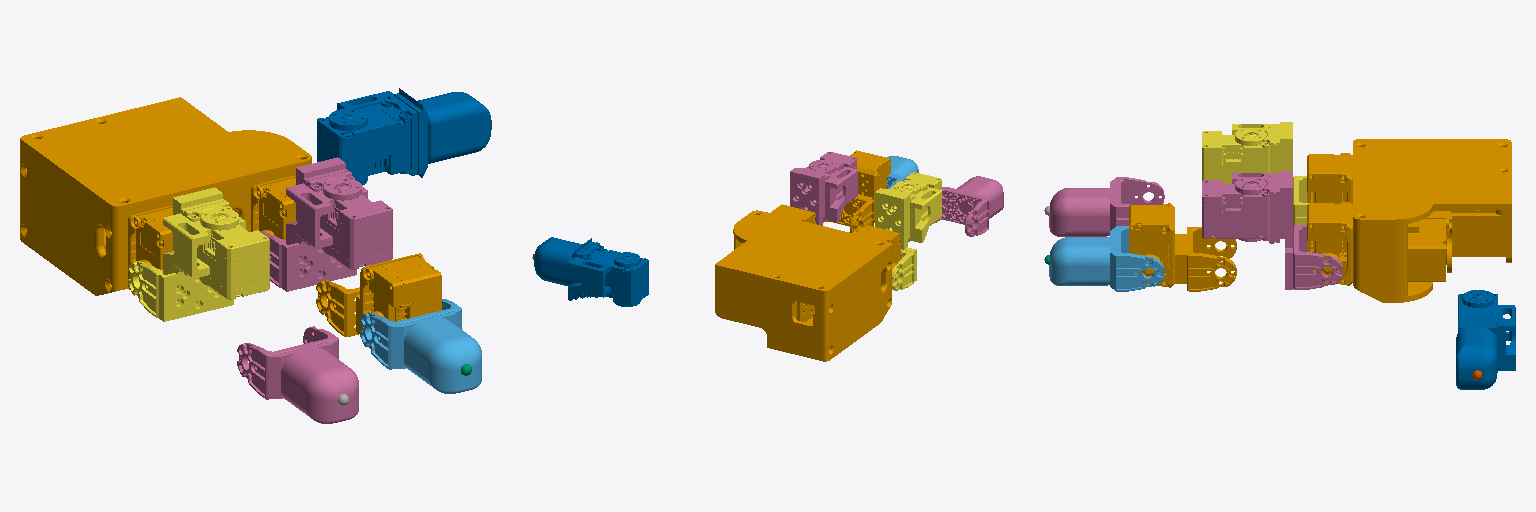
The robot description file, URDF, robot "for_urdf_right":
<?xml version='1.0' encoding='utf-8'?>
<robot name="for_urdf_right">
    <link name="palm">
        <inertial>
            <origin xyz="0.04408264816935304 0.021387857928123092 0.02271811661182397" rpy="0.0 0.0 0.0" />
            <mass value="1.0369816733358068" />
            <inertia ixx="0.001104979313364122" iyy="0.001031773846424572" izz="0.001706516554357987" ixy="0.00017199324393286355" iyz="9.120440866143228e-06" ixz="6.229329238586004e-06" />
        </inertial>
        <visual name="palm_visual">
            <origin xyz="0.0 0.0 0.0" rpy="0.0 0.0 0.0" />
            <geometry>
                <mesh filename="meshes/palm.stl" scale="0.001 0.001 0.001" />
            </geometry>
        </visual>
        <collision name="palm_collision">
            <origin xyz="0.0 0.0 0.0" rpy="0.0 0.0 0.0" />
            <geometry>
                <mesh filename="meshes/palm.stl" scale="0.001 0.001 0.001" />
            </geometry>
        </collision>
    </link>
    <link name="thumb_mcp1">
        <inertial>
            <origin xyz="0.000225007094667804 0.007015717072435812 -0.011848763937220338" rpy="0.0 -0.0 0.0" />
            <mass value="0.1368678994313018" />
            <inertia ixx="1.850335790135125e-05" iyy="1.2815907211302397e-05" izz="2.058441966236598e-05" ixy="-5.5542418332796e-08" iyz="-7.976482882837731e-08" ixz="3.266596126911686e-08" />
        </inertial>
        <visual name="thumb_mcp1_visual">
            <origin xyz="0.00030000000000002914 0.005356636907728405 0.0007840340104174449" rpy="-3.141592653589793 -1.5707963267948852 0" />
            <geometry>
                <mesh filename="meshes/thumb_mcp1.stl" scale="0.001 0.001 0.001" />
            </geometry>
        </visual>
        <collision name="thumb_mcp1_collision">
            <origin xyz="0.00030000000000002914 0.005356636907728405 0.0007840340104174449" rpy="-3.141592653589793 -1.5707963267948852 0" />
            <geometry>
                <mesh filename="meshes/thumb_mcp1.stl" scale="0.001 0.001 0.001" />
            </geometry>
        </collision>
    </link>
    <link name="thumb_mcp2">
        <inertial>
            <origin xyz="0.00692127206609797 2.4270045351215687e-09 -6.682093434129399e-10" rpy="0.0 -0.0 -1.4039453210987902e-47" />
            <mass value="0.01935609811919093" />
            <inertia ixx="4.069121186171332e-06" iyy="4.392023484606764e-06" izz="1.6616430847017248e-06" ixy="1.950074623264728e-13" iyz="6.552321163512805e-14" ixz="-5.88494638011025e-14" />
        </inertial>
        <visual name="thumb_mcp2_visual">
            <origin xyz="0.015852648956663985 -0.011961920770611405 -2.531308496145357e-16" rpy="-3.1415926535897922 -1.0795345042441354e-15 -1.5707963267949083" />
            <geometry>
                <mesh filename="meshes/thumb_mcp2.stl" scale="0.001 0.001 0.001" />
            </geometry>
        </visual>
        <collision name="thumb_mcp2_collision">
            <origin xyz="0.015852648956663985 -0.011961920770611405 -2.531308496145357e-16" rpy="-3.1415926535897922 -1.0795345042441354e-15 -1.5707963267949083" />
            <geometry>
                <mesh filename="meshes/thumb_mcp2.stl" scale="0.001 0.001 0.001" />
            </geometry>
        </collision>
    </link>
    <link name="thumb_proximal">
        <inertial>
            <origin xyz="0.013377505039483744 0.0012292262844708368 -0.01403106094080699" rpy="0.0 -0.0 0.0" />
            <mass value="0.17555980876954594" />
            <inertia ixx="1.9882725828409675e-05" iyy="4.491953974664368e-05" izz="4.108519101658249e-05" ixy="-1.2625386189748632e-06" iyz="-1.8240294184549105e-07" ixz="2.4015417423564524e-07" />
        </inertial>
        <visual name="thumb_proximal_visual">
            <origin xyz="0.05795295297370957 -0.043968715707238204 -0.008628676449369582" rpy="-2.0122792321332348e-16 5.504992458378667e-16 -1.5707963267948852" />
            <geometry>
                <mesh filename="meshes/thumb_proximal.stl" scale="0.001 0.001 0.001" />
            </geometry>
        </visual>
        <collision name="thumb_proximal_collision">
            <origin xyz="0.05795295297370957 -0.043968715707238204 -0.008628676449369582" rpy="-2.0122792321332348e-16 5.504992458378667e-16 -1.5707963267948852" />
            <geometry>
                <mesh filename="meshes/thumb_proximal.stl" scale="0.001 0.001 0.001" />
            </geometry>
        </collision>
    </link>
    <link name="thumb_distal">
        <inertial>
            <origin xyz="0.024003654344851313 0.0003520385154470329 0.00023499513395870865" rpy="0.0 -0.0 8.758115402030107e-47" />
            <mass value="0.25656730685939594" />
            <inertia ixx="2.367200886555924e-05" iyy="0.00011410943092835026" izz="0.0001123577701833988" ixy="4.087395483663877e-06" iyz="-2.3556983042449205e-07" ixz="7.613707325151507e-07" />
        </inertial>
        <visual name="thumb_distal_visual">
            <origin xyz="-0.07845968291139774 0.06255953846266742 0.06334291180733229" rpy="5.7176485768196114e-15 2.5181820190912467e-15 1.5707963267949068" />
            <geometry>
                <mesh filename="meshes/thumb_distal.stl" scale="0.001 0.001 0.001" />
            </geometry>
        </visual>
        <collision name="thumb_distal_collision">
            <origin xyz="-0.07845968291139774 0.06255953846266742 0.06334291180733229" rpy="5.7176485768196114e-15 2.5181820190912467e-15 1.5707963267949068" />
            <geometry>
                <mesh filename="meshes/thumb_distal.stl" scale="0.001 0.001 0.001" />
            </geometry>
        </collision>
    </link>
    <link name="thumb_realtip">
        <inertial>
            <origin xyz="-1.7763568394002506e-16 -1.270095140171179e-15 3.7081449022480227e-16" rpy="0.0 -0.0 9.151580097495647e-92" />
            <mass value="0.0005137812985558336" />
            <inertia ixx="1.284453246390584e-09" iyy="1.284453246390584e-09" izz="1.2844532463871959e-09" ixy="2.8373215009513988e-39" iyz="2.117582368135751e-22" ixz="2.117582368135751e-22" />
        </inertial>
        <visual name="thumb_realtip_visual">
            <origin xyz="-0.053401887312611473 0.20849999999999905 -0.013500000000000423" rpy="6.900874595585767e-16 -5.30561064654017e-15 -1.5707963267949083" />
            <geometry>
                <mesh filename="meshes/thumb_realtip.stl" scale="0.001 0.001 0.001" />
            </geometry>
        </visual>
        <collision name="thumb_realtip_collision">
            <origin xyz="-0.053401887312611473 0.20849999999999905 -0.013500000000000423" rpy="6.900874595585767e-16 -5.30561064654017e-15 -1.5707963267949083" />
            <geometry>
                <mesh filename="meshes/thumb_realtip.stl" scale="0.001 0.001 0.001" />
            </geometry>
        </collision>
    </link>
    <link name="index_mcp_joint">
        <inertial>
            <origin xyz="0.02206797957377967 0.034370715917380786 0.013527985266617276" rpy="0.0 -0.0 0.0" />
            <mass value="0.22201994161036565" />
            <inertia ixx="6.410407866513186e-05" iyy="4.792197881550936e-05" izz="8.487896677913085e-05" ixy="-1.9393491168222612e-05" iyz="-1.0074778164636287e-07" ixz="1.1913147603013854e-06" />
        </inertial>
        <visual name="index_mcp_joint_visual">
            <origin xyz="-0.008406902261174415 0.007766243859716939 0.014342645014967098" rpy="-3.141592653589793 -3.7959731319666e-15 3.141592653589793" />
            <geometry>
                <mesh filename="meshes/index_mcp_joint.stl" scale="0.001 0.001 0.001" />
            </geometry>
        </visual>
        <collision name="index_mcp_joint_collision">
            <origin xyz="-0.008406902261174415 0.007766243859716939 0.014342645014967098" rpy="-3.141592653589793 -3.7959731319666e-15 3.141592653589793" />
            <geometry>
                <mesh filename="meshes/index_mcp_joint.stl" scale="0.001 0.001 0.001" />
            </geometry>
        </collision>
    </link>
    <link name="index_proximal">
        <inertial>
            <origin xyz="-0.011848763937220064 -0.007984282927563867 -0.0002250070946681504" rpy="-4.3269156561887814e-63 -0.0 0.0" />
            <mass value="0.1368678994313018" />
            <inertia ixx="2.0584419662366413e-05" iyy="1.2815907211302722e-05" izz="1.850335790135136e-05" ixy="-7.976482882849511e-08" iyz="5.554241833278713e-08" ixz="-3.266596126909642e-08" />
        </inertial>
        <visual name="index_proximal_visual">
            <origin xyz="0.0007840340104177735 -0.009643363092271295 -0.0003000000000002423" rpy="-3.141592653589791 6.938893903907508e-17 -1.7094033107167696e-15" />
            <geometry>
                <mesh filename="meshes/index_proximal.stl" scale="0.001 0.001 0.001" />
            </geometry>
        </visual>
        <collision name="index_proximal_collision">
            <origin xyz="0.0007840340104177735 -0.009643363092271295 -0.0003000000000002423" rpy="-3.141592653589791 6.938893903907508e-17 -1.7094033107167696e-15" />
            <geometry>
                <mesh filename="meshes/index_proximal.stl" scale="0.001 0.001 0.001" />
            </geometry>
        </collision>
    </link>
    <link name="index_inter">
        <inertial>
            <origin xyz="0.014677740494651745 -0.030710773820957344 0.00554194187847405" rpy="0.0 -0.0 0.0" />
            <mass value="0.17326501033259323" />
            <inertia ixx="3.4657405459753016e-05" iyy="2.734143629878741e-05" izz="3.0799287255352074e-05" ixy="1.6878173640200001e-07" iyz="4.003919462593389e-06" ixz="-1.0091124470241833e-07" />
        </inertial>
        <visual name="index_inter_visual">
            <origin xyz="0.01921491183790507 -0.008432119146704756 0.021133352895225423" rpy="-3.1415926535897882 -1.5707963267948941 0" />
            <geometry>
                <mesh filename="meshes/index_inter.stl" scale="0.001 0.001 0.001" />
            </geometry>
        </visual>
        <collision name="index_inter_collision">
            <origin xyz="0.01921491183790507 -0.008432119146704756 0.021133352895225423" rpy="-3.1415926535897882 -1.5707963267948941 0" />
            <geometry>
                <mesh filename="meshes/index_inter.stl" scale="0.001 0.001 0.001" />
            </geometry>
        </collision>
    </link>
    <link name="index_distal">
        <inertial>
            <origin xyz="-4.772904238770081e-07 -0.028798945208543376 -0.001049697266565246" rpy="0.0 -0.0 -2.7369110631344083e-48" />
            <mass value="0.11971825858324693" />
            <inertia ixx="2.1202943775735898e-05" iyy="1.1525224003012478e-05" izz="2.4942192418395683e-05" ixy="7.292873998821493e-11" iyz="-8.504574809061484e-07" ixz="-3.8251621380720414e-10" />
        </inertial>
        <visual name="index_distal_visual">
            <origin xyz="7.993605777301127e-16 0.008885761613458101 0.013286424108534176" rpy="-3.1415926535897833 -1.5707963267948934 0" />
            <geometry>
                <mesh filename="meshes/index_distal.stl" scale="0.001 0.001 0.001" />
            </geometry>
        </visual>
        <collision name="index_distal_collision">
            <origin xyz="7.993605777301127e-16 0.008885761613458101 0.013286424108534176" rpy="-3.1415926535897833 -1.5707963267948934 0" />
            <geometry>
                <mesh filename="meshes/index_distal.stl" scale="0.001 0.001 0.001" />
            </geometry>
        </collision>
    </link>
    <link name="index_realtip">
        <inertial>
            <origin xyz="8.615330671091215e-16 -1.7763568394002505e-17 7.127631818093505e-16" rpy="0.0 -0.0 0.0" />
            <mass value="0.0005137812985558331" />
            <inertia ixx="1.2844532464193831e-09" iyy="1.284453246289787e-09" izz="1.284453246392278e-09" ixy="-2.5331373764362596e-40" iyz="2.752857078576476e-21" ixz="-1.6940658945086007e-21" />
        </inertial>
        <visual name="index_realtip_visual">
            <origin xyz="-0.007376887312610956 -0.02040000000000008 0.15170000000000072" rpy="1.5707963267948986 -1.9926802555991712e-15 1.5707963267949066" />
            <geometry>
                <mesh filename="meshes/index_realtip.stl" scale="0.001 0.001 0.001" />
            </geometry>
        </visual>
        <collision name="index_realtip_collision">
            <origin xyz="-0.007376887312610956 -0.02040000000000008 0.15170000000000072" rpy="1.5707963267948986 -1.9926802555991712e-15 1.5707963267949066" />
            <geometry>
                <mesh filename="meshes/index_realtip.stl" scale="0.001 0.001 0.001" />
            </geometry>
        </collision>
    </link>
    <link name="middle_mcp_joint">
        <inertial>
            <origin xyz="0.02206797957377944 0.03437071591738105 0.013527985266617578" rpy="0.0 -0.0 0.0" />
            <mass value="0.22201994161036565" />
            <inertia ixx="6.410407866513045e-05" iyy="4.7921978815515433e-05" izz="8.487896677913443e-05" ixy="-1.9393491168224564e-05" iyz="-1.0074778164638959e-07" ixz="1.191314760302468e-06" />
        </inertial>
        <visual name="middle_mcp_joint_visual">
            <origin xyz="-0.008406902261174425 0.007766243859717061 0.014342645014967266" rpy="3.141592653589793 2.6897898977990595e-16 3.141592653589793" />
            <geometry>
                <mesh filename="meshes/middle_mcp_joint.stl" scale="0.001 0.001 0.001" />
            </geometry>
        </visual>
        <collision name="middle_mcp_joint_collision">
            <origin xyz="-0.008406902261174425 0.007766243859717061 0.014342645014967266" rpy="3.141592653589793 2.6897898977990595e-16 3.141592653589793" />
            <geometry>
                <mesh filename="meshes/middle_mcp_joint.stl" scale="0.001 0.001 0.001" />
            </geometry>
        </collision>
    </link>
    <link name="middle_proximal">
        <inertial>
            <origin xyz="-0.011848763937220307 -0.007984282927564132 -0.0002250070946681726" rpy="-3.1761486403764e-78 -0.0 0.0" />
            <mass value="0.1368678994313018" />
            <inertia ixx="2.058441966236598e-05" iyy="1.281590721130298e-05" izz="1.8503357901351793e-05" ixy="-7.976482882833248e-08" iyz="5.554241833284134e-08" ixz="-3.2665961269191286e-08" />
        </inertial>
        <visual name="middle_proximal_visual">
            <origin xyz="0.0007840340104174803 -0.009643363092271571 -0.00030000000000029114" rpy="-3.1415926535897905 2.834706814574471e-15 -1.7094033107167566e-15" />
            <geometry>
                <mesh filename="meshes/middle_proximal.stl" scale="0.001 0.001 0.001" />
            </geometry>
        </visual>
        <collision name="middle_proximal_collision">
            <origin xyz="0.0007840340104174803 -0.009643363092271571 -0.00030000000000029114" rpy="-3.1415926535897905 2.834706814574471e-15 -1.7094033107167566e-15" />
            <geometry>
                <mesh filename="meshes/middle_proximal.stl" scale="0.001 0.001 0.001" />
            </geometry>
        </collision>
    </link>
    <link name="middle_inter">
        <inertial>
            <origin xyz="0.01467774049465128 -0.030710773820957788 0.005541941878473593" rpy="0.0 -0.0 0.0" />
            <mass value="0.17326501033259323" />
            <inertia ixx="3.465740545974998e-05" iyy="2.7341436298786326e-05" izz="3.0799287255351424e-05" ixy="1.6878173640237949e-07" iyz="4.003919462594419e-06" ixz="-1.0091124470213373e-07" />
        </inertial>
        <visual name="middle_inter_visual">
            <origin xyz="0.019214911837904844 -0.008432119146705306 0.021133352895225093" rpy="3.141592653589788 -1.5707963267948934 0" />
            <geometry>
                <mesh filename="meshes/middle_inter.stl" scale="0.001 0.001 0.001" />
            </geometry>
        </visual>
        <collision name="middle_inter_collision">
            <origin xyz="0.019214911837904844 -0.008432119146705306 0.021133352895225093" rpy="3.141592653589788 -1.5707963267948934 0" />
            <geometry>
                <mesh filename="meshes/middle_inter.stl" scale="0.001 0.001 0.001" />
            </geometry>
        </collision>
    </link>
    <link name="middle_distal">
        <inertial>
            <origin xyz="-4.7729042458311e-07 -0.028798904084547595 -0.0010496972665659343" rpy="-6.162975822039155e-33 -0.0 4.926439913641935e-47" />
            <mass value="0.11971825858324643" />
            <inertia ixx="2.1203240991855696e-05" iyy="1.152522400301204e-05" izz="2.4942489634515454e-05" ixy="7.292638999870247e-11" iyz="-8.50528061834058e-07" ixz="-3.8251621343328495e-10" />
        </inertial>
        <visual name="middle_distal_visual">
            <origin xyz="3.552713678800501e-16 -0.006114238386542326 0.013286424108533451" rpy="3.1415926535897913 -1.5707963267948941 0" />
            <geometry>
                <mesh filename="meshes/middle_distal.stl" scale="0.001 0.001 0.001" />
            </geometry>
        </visual>
        <collision name="middle_distal_collision">
            <origin xyz="3.552713678800501e-16 -0.006114238386542326 0.013286424108533451" rpy="3.1415926535897913 -1.5707963267948941 0" />
            <geometry>
                <mesh filename="meshes/middle_distal.stl" scale="0.001 0.001 0.001" />
            </geometry>
        </collision>
    </link>
    <link name="middle_realtip">
        <inertial>
            <origin xyz="-2.6201263381153693e-16 -2.486899575160351e-16 -1.4654943925052067e-16" rpy="0.0 -0.0 0.0" />
            <mass value="0.0005137812985558314" />
            <inertia ixx="1.2844532463855018e-09" iyy="1.2844532463895782e-09" izz="1.2844532463855018e-09" ixy="0.0" iyz="-2.117582368135751e-22" ixz="0.0" />
        </inertial>
        <visual name="middle_realtip_visual">
            <origin xyz="-0.0073768873126128474 -0.1517000000000005 -0.02040000000000016" rpy="3.1415926535897913 -1.5707963267948934 0" />
            <geometry>
                <mesh filename="meshes/middle_realtip.stl" scale="0.001 0.001 0.001" />
            </geometry>
        </visual>
        <collision name="middle_realtip_collision">
            <origin xyz="-0.0073768873126128474 -0.1517000000000005 -0.02040000000000016" rpy="3.1415926535897913 -1.5707963267948934 0" />
            <geometry>
                <mesh filename="meshes/middle_realtip.stl" scale="0.001 0.001 0.001" />
            </geometry>
        </collision>
    </link>
    <joint name="palm_Revolute-1" type="continuous">
        <origin xyz="0.06849999999999999 0.0495 0.0131" rpy="1.5707963267948943 -0.0 0.0" />
        <parent link="palm" />
        <child link="thumb_mcp1" />
        <axis xyz="0.0 -2.2920118444087085e-15 -1.0" />
    </joint>
    <joint name="thumb_mcp1_Revolute-2" type="continuous">
        <origin xyz="0.01429999999999997 3.1086244689504386e-17 -0.012999999999999998" rpy="1.5707963267948981 3.944304526105086e-31 -1.2030572237243167e-30" />
        <parent link="thumb_mcp1" />
        <child link="thumb_mcp2" />
        <axis xyz="1.0 1.2818309776324673e-45 -3.178737046341918e-17" />
    </joint>
    <joint name="thumb_mcp2_Revolute-3" type="continuous">
        <origin xyz="0.01700000000000001 1.7763568394002505e-17 -0.014499999999999996" rpy="-3.1415926535897922 1.2030572237243175e-30 -6.767517584326818e-32" />
        <parent link="thumb_mcp2" />
        <child link="thumb_proximal" />
        <axis xyz="0.0 0.0 -1.0" />
    </joint>
    <joint name="thumb_proximal_Revolute-4" type="continuous">
        <origin xyz="0.0466 0.0 -0.014299999999999997" rpy="-1.9428902930940565e-16 -3.2751579226442197e-15 1.189074479488685e-31" />
        <parent link="thumb_proximal" />
        <child link="thumb_distal" />
        <axis xyz="3.27515792264423e-15 -1.94289029309406e-16 -1.0000000000000018" />
    </joint>
    <joint name="thumb_distal_Rigid_thumb" type="fixed">
        <origin xyz="0.062099999999999794 -0.0004999999999999894 4.9999999999794655e-05" rpy="-3.141592653589793 3.2751579226442236e-15 -1.0811969824151546e-30" />
        <parent link="thumb_distal" />
        <child link="thumb_realtip" />
    </joint>
    <joint name="palm_Revolute-6" type="continuous">
        <origin xyz="0.0637 -0.013000000000000001 0.017275000000000002" rpy="-3.141592653589793 -1.5707963267948966 0" />
        <parent link="palm" />
        <child link="index_mcp_joint" />
        <axis xyz="0.0 3.3709870223533754e-16 1.0" />
    </joint>
    <joint name="index_mcp_joint_Revolute-7" type="continuous">
        <origin xyz="0.012199999999999973 0.03810000000000001 0.014499999999999985" rpy="3.1415926535897913 3.944304526105059e-31 2.8022431570960223e-32" />
        <parent link="index_mcp_joint" />
        <child link="index_proximal" />
        <axis xyz="-1.0 1.0970034457409265e-32 -5.997407798921492e-16" />
    </joint>
    <joint name="index_proximal_Revolute-8" type="continuous">
        <origin xyz="-0.012999999999999987 -0.015000000000000027 0.014399999999999977" rpy="-8.129871583511721e-16 1.570796326794895 0" />
        <parent link="index_proximal" />
        <child link="index_inter" />
        <axis xyz="1.0 3.944304526105059e-31 1.21876284056415e-17" />
    </joint>
    <joint name="index_inter_Revolute-9" type="continuous">
        <origin xyz="0.014450000000000003 -0.03610000000000001 -2.886579864025407e-17" rpy="7.635123965975653e-16 2.8730071914463814e-16 2.335717952496475e-31" />
        <parent link="index_inter" />
        <child link="index_distal" />
        <axis xyz="0.9999999999999962 -4.662936703425647e-15 2.521624556202696e-15" />
    </joint>
    <joint name="index_distal_Rigid_index" type="fixed">
        <origin xyz="-2.3092638912203257e-16 -0.04950000000000003 -0.0005000000000000049" rpy="4.947476175360935e-17 -2.8730071914463834e-16 -1.8006098300157965e-31" />
        <parent link="index_distal" />
        <child link="index_realtip" />
    </joint>
    <joint name="palm_Revolute-11" type="continuous">
        <origin xyz="0.005699999999999999 -0.013000000000000001 0.017275000000000002" rpy="-3.1415926535897927 -1.5707963267948966 0" />
        <parent link="palm" />
        <child link="middle_mcp_joint" />
        <axis xyz="0.0 3.9260985346659443e-16 1.0" />
    </joint>
    <joint name="middle_mcp_joint_Revolute-12" type="continuous">
        <origin xyz="0.01219999999999999 0.03810000000000001 0.014499999999999985" rpy="3.1415926535897913 2.5353555998624977e-47 6.457697323376579e-32" />
        <parent link="middle_mcp_joint" />
        <child link="middle_proximal" />
        <axis xyz="-1.0 -3.164352580666406e-32 -5.9974077989215e-16" />
    </joint>
    <joint name="middle_proximal_Revolute-13" type="continuous">
        <origin xyz="-0.012999999999999989 -0.015000000000000027 0.014399999999999977" rpy="-8.129871583511721e-16 1.570796326794895 0" />
        <parent link="middle_proximal" />
        <child link="middle_inter" />
        <axis xyz="1.0 0.0 1.21876284056415e-17" />
    </joint>
    <joint name="middle_inter_Revolute-14" type="continuous">
        <origin xyz="0.01445 -0.03610000000000001 -2.886579864025407e-17" rpy="7.63512396597558e-16 2.873007191446387e-16 -5.552891099713655e-31" />
        <parent link="middle_inter" />
        <child link="middle_distal" />
        <axis xyz="0.9999999999999968 1.3322676295501985e-15 6.620009899558993e-16" />
    </joint>
    <joint name="middle_distal_Rigid_middle" type="fixed">
        <origin xyz="6.661338147750939e-17 -0.049499999999999926 -0.0005000000000000027" rpy="4.94747617536117e-17 -2.8730071914463617e-16 7.4274998325118455e-31" />
        <parent link="middle_distal" />
        <child link="middle_realtip" />
    </joint>
</robot>

--- What the picture shows (computed from the rendered views, not written in the file) ---
The picture shows the robot from 3 angles, left to right: view 1: azimuth 30°, elevation 25°; view 2: azimuth 150°, elevation 25°; view 3: azimuth 270°, elevation 25°; orthographic projection.
Robot: for_urdf_right — 16 links, 15 joints (12 continuous, 3 fixed); root link palm; default pose: all joints at 0.
Links seen in each view (by area): view 1: palm, middle_mcp_joint, thumb_distal, index_mcp_joint, middle_distal, index_distal, index_inter; view 2: palm, thumb_distal, middle_mcp_joint, index_mcp_joint, middle_distal, index_inter, index_distal; view 3: palm, index_mcp_joint, index_inter, middle_mcp_joint, index_distal, thumb_distal, middle_distal.
Boxes of the visible links, bbox=[...] form: palm: bbox=[20, 97, 311, 295]; middle_mcp_joint: bbox=[128, 187, 269, 321]; thumb_distal: bbox=[317, 88, 491, 185]; index_mcp_joint: bbox=[260, 157, 392, 291]; middle_distal: bbox=[237, 326, 358, 423]; index_distal: bbox=[360, 299, 481, 393]; index_inter: bbox=[316, 253, 441, 336]; palm: bbox=[715, 204, 900, 361]; thumb_distal: bbox=[534, 237, 648, 306]; middle_mcp_joint: bbox=[875, 172, 941, 290]; index_mcp_joint: bbox=[790, 152, 857, 225]; middle_distal: bbox=[933, 176, 1003, 236]; index_inter: bbox=[823, 150, 890, 233]; index_distal: bbox=[887, 156, 918, 188]; palm: bbox=[1307, 139, 1511, 302]; index_mcp_joint: bbox=[1202, 171, 1342, 289]; index_inter: bbox=[1129, 203, 1236, 291]; middle_mcp_joint: bbox=[1202, 122, 1308, 225]; index_distal: bbox=[1049, 226, 1164, 291]; thumb_distal: bbox=[1456, 290, 1515, 389]; middle_distal: bbox=[1049, 177, 1164, 236].
Bounding box of the posed robot: 0.211 × 0.2352 × 0.0634 m (x, y, z).
Meshes: 16 distinct files referenced, 10 mesh visuals loaded (10 binary STL); not drawn: 6 (reference not matched to a file when rendering).